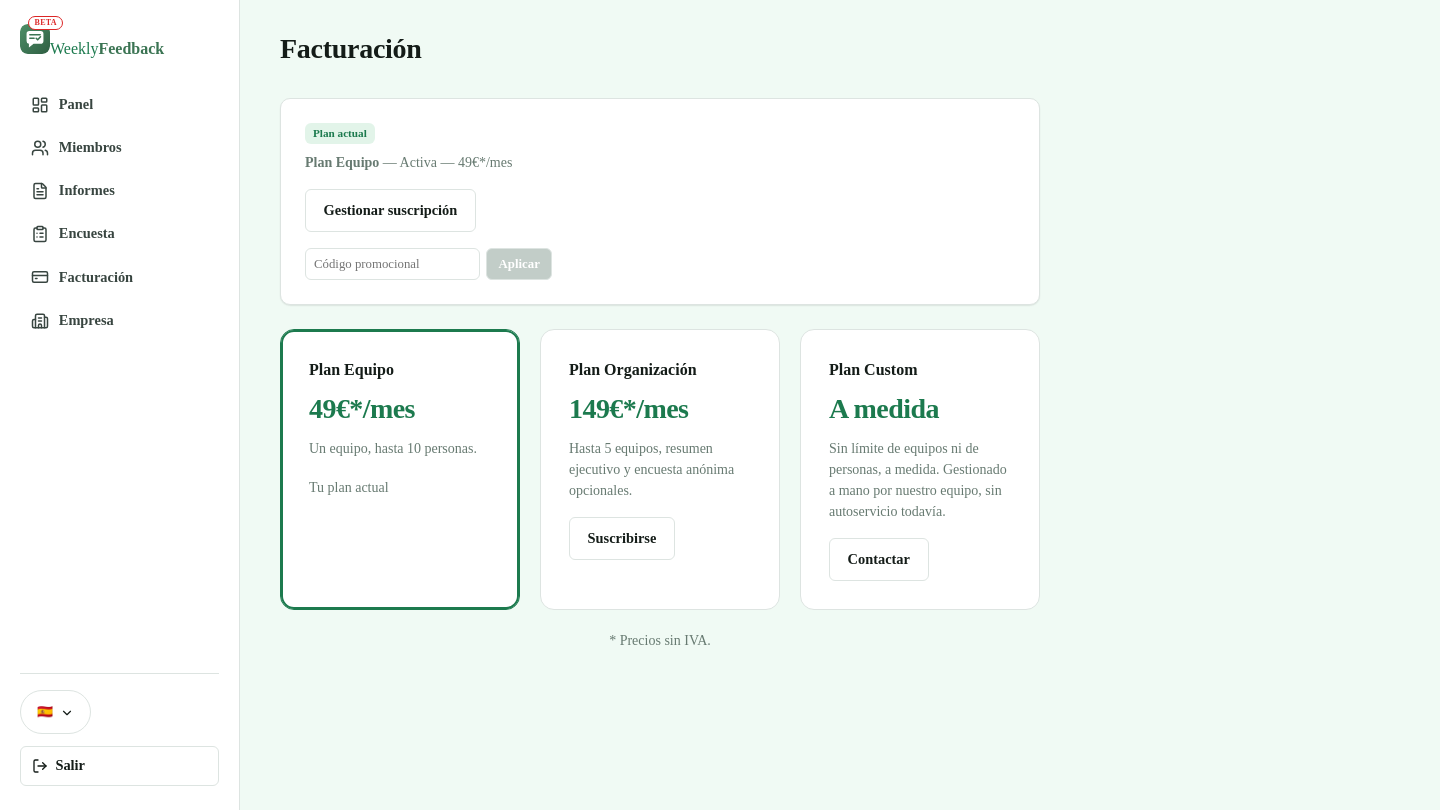
Test case: BillingPage — con suscripción activa: cambiar de plan se confirma antes › fallo abriendo el portal: muestra el error
This screenshot has width=1440, height=810.
Click the button "Gestionar suscripción". click: (390, 211)
box: [305,189,476,232]
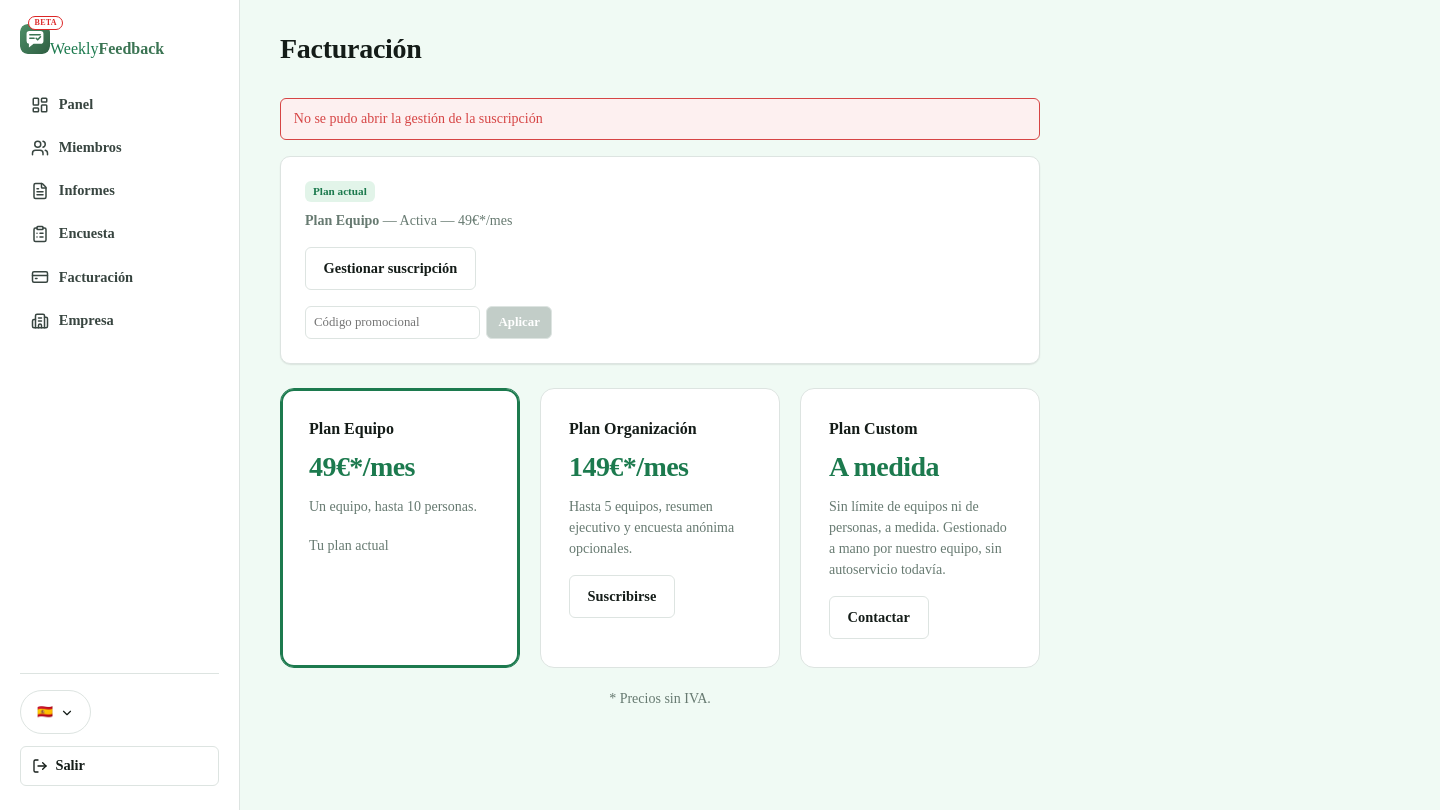
Result: the message reads "No se pudo abrir la gestión de la suscripción" at [294,111,543,126]
